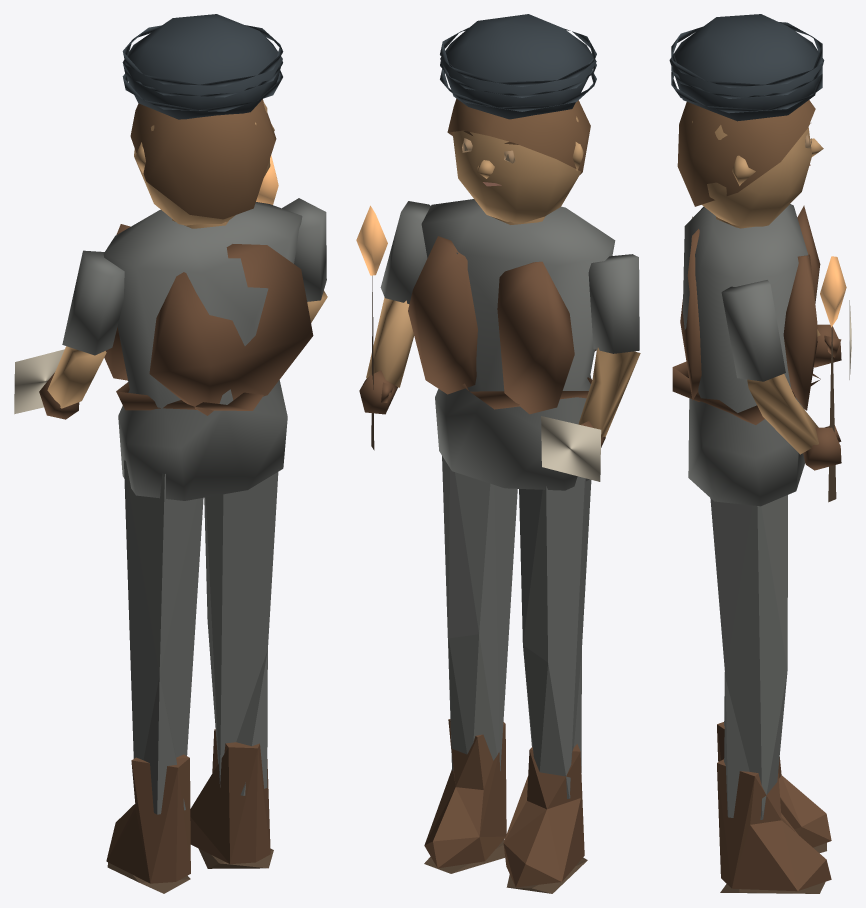
File: SM_NPC_CENIZA_BAJA.glb
The picture shows the model from 3 angles, left to right: view 1: azimuth 30°, elevation 25°; view 2: azimuth 150°, elevation 25°; view 3: azimuth 270°, elevation 25°; orthographic projection. The views are drawn at different scales.
Visible parts, largest first — view 1: SM_NPC_CENIZA_BODY, SM_NPC_CENIZA_HEAD, SM_NPC_CENIZA_ARMS; view 2: SM_NPC_CENIZA_BODY, SM_NPC_CENIZA_HEAD, SM_NPC_CENIZA_ARMS; view 3: SM_NPC_CENIZA_BODY, SM_NPC_CENIZA_HEAD, SM_NPC_CENIZA_ARMS.
Part boxes in pixels (left/top/right/bottom): SM_NPC_CENIZA_BODY: left=103, top=202, right=313, bottom=893; SM_NPC_CENIZA_HEAD: left=122, top=14, right=283, bottom=225; SM_NPC_CENIZA_ARMS: left=14, top=155, right=327, bottom=419; SM_NPC_CENIZA_BODY: left=408, top=199, right=615, bottom=893; SM_NPC_CENIZA_HEAD: left=440, top=14, right=596, bottom=223; SM_NPC_CENIZA_ARMS: left=356, top=201, right=640, bottom=481; SM_NPC_CENIZA_BODY: left=672, top=204, right=831, bottom=893; SM_NPC_CENIZA_HEAD: left=669, top=14, right=824, bottom=226; SM_NPC_CENIZA_ARMS: left=721, top=256, right=851, bottom=502.
Size of the model in its own units: 0.6219 by 1.88 by 0.367.
